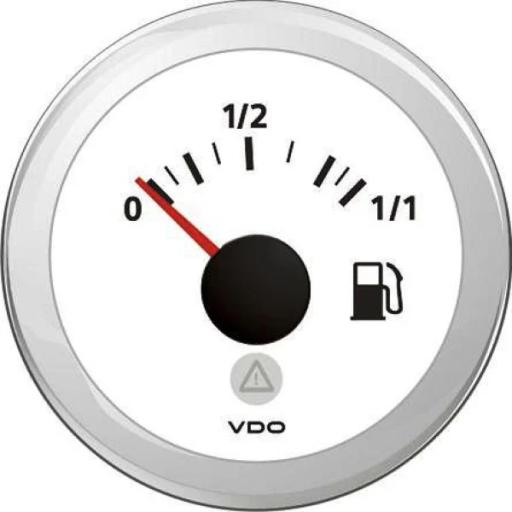empty: (119, 194, 145, 228)
fuel_icon: (347, 252, 408, 325)
full: (365, 194, 439, 224)
guage_area: (2, 0, 511, 512)
needle_center: (194, 230, 316, 347)
needle_tip: (127, 173, 155, 198)
